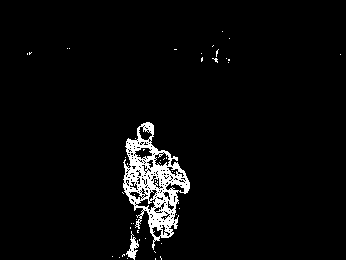person: (141, 148, 190, 253), (123, 118, 155, 260)
